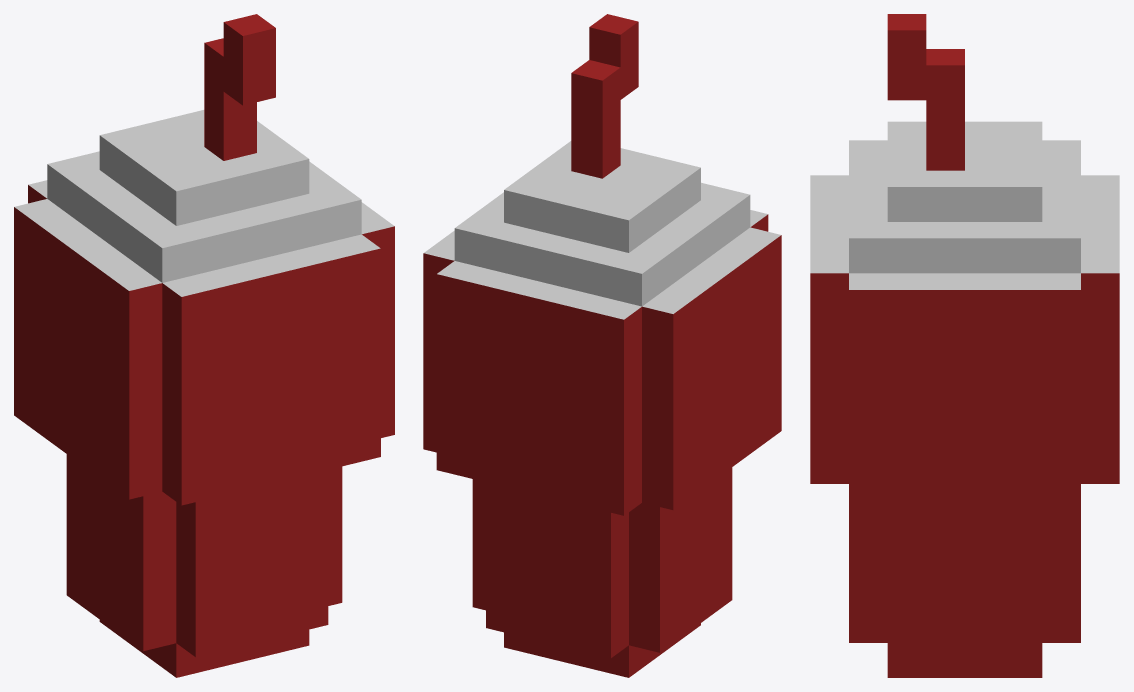
Rendered from pahar.fbx.
3 views of the same model, side by side, from view 1: azimuth 30°, elevation 25°; view 2: azimuth 150°, elevation 25°; view 3: azimuth 270°, elevation 25° (orthographic). The views are drawn at different scales.
Parts seen in each view (by area): view 1: cube_6, cube_7, cube_2, cube_13, cube_4, cube_14, cube_16, cube_15, cube_8, cube, cube_3; view 2: cube_5, cube_7, cube_1, cube_13, cube_4, cube_14, cube_15, cube_8, cube_16, cube, cube_3; view 3: cube_8, cube_3, cube_13, cube_14, cube_5, cube_6, cube_1, cube_2, cube_15, cube_16, cube.
Part boxes in pixels (x1,y1,x2,y2): cube_6: [162, 234, 380, 505]; cube_7: [14, 199, 162, 499]; cube_2: [176, 470, 328, 657]; cube_13: [47, 151, 361, 282]; cube_4: [66, 454, 176, 651]; cube_14: [99, 110, 309, 225]; cube_16: [223, 14, 275, 105]; cube_15: [204, 38, 256, 160]; cube_8: [361, 202, 394, 437]; cube: [99, 620, 309, 677]; cube_3: [328, 466, 342, 605]; cube_5: [436, 261, 641, 515]; cube_7: [642, 227, 781, 510]; cube_1: [486, 482, 628, 658]; cube_13: [454, 182, 750, 306]; cube_4: [629, 467, 732, 652]; cube_14: [504, 141, 700, 252]; cube_15: [571, 60, 620, 178]; cube_8: [423, 230, 454, 452]; cube_16: [589, 14, 638, 99]; cube: [504, 623, 700, 677]; cube_3: [472, 479, 485, 610]; cube_8: [849, 273, 1080, 500]; cube_3: [887, 500, 1042, 659]; cube_13: [849, 140, 1080, 273]; cube_14: [887, 121, 1042, 221]; cube_5: [1081, 175, 1119, 483]; cube_6: [810, 175, 848, 483]; cube_1: [1042, 500, 1080, 642]; cube_2: [849, 500, 887, 642]; cube_15: [926, 49, 964, 170]; cube_16: [887, 14, 926, 100]; cube: [887, 659, 1042, 677].
Size of the model in its own units: 50 by 112 by 50.
1 material, 1 textured.
